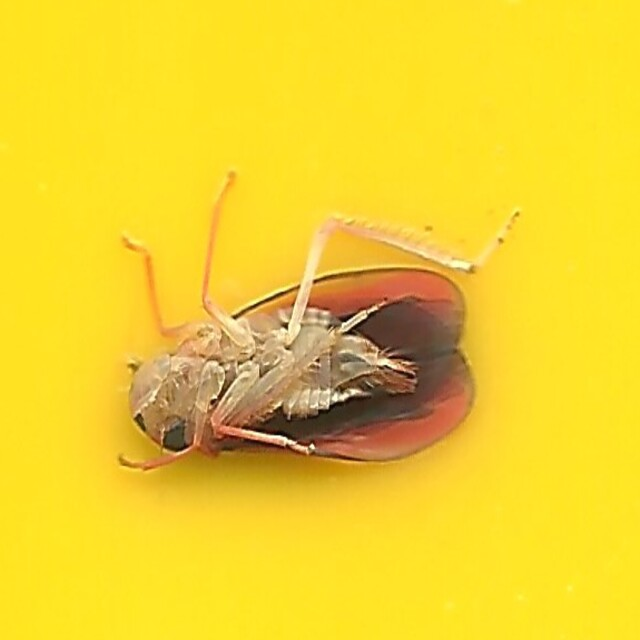Hemiptera: (111, 153, 529, 487)
